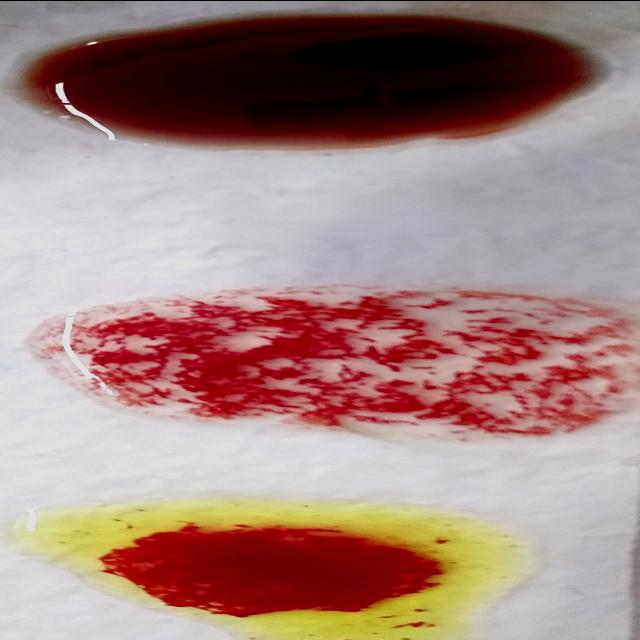B: (58, 508, 523, 634)
D: (56, 291, 624, 419)
